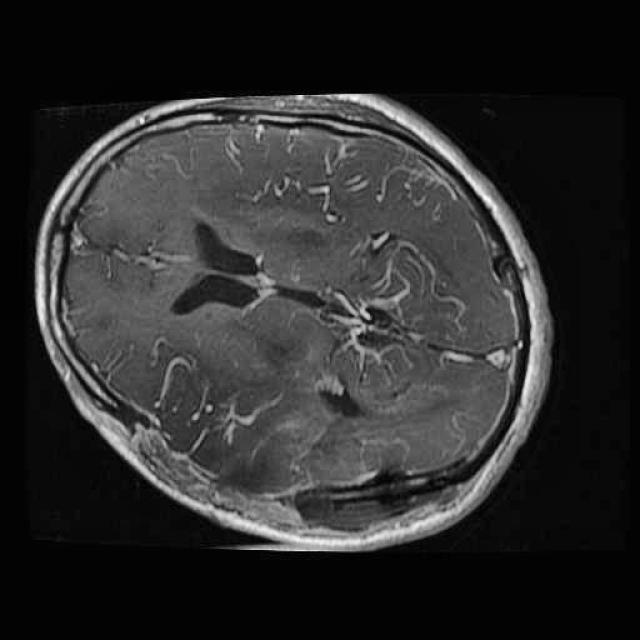Non-Tumor: (289, 371, 469, 509)
